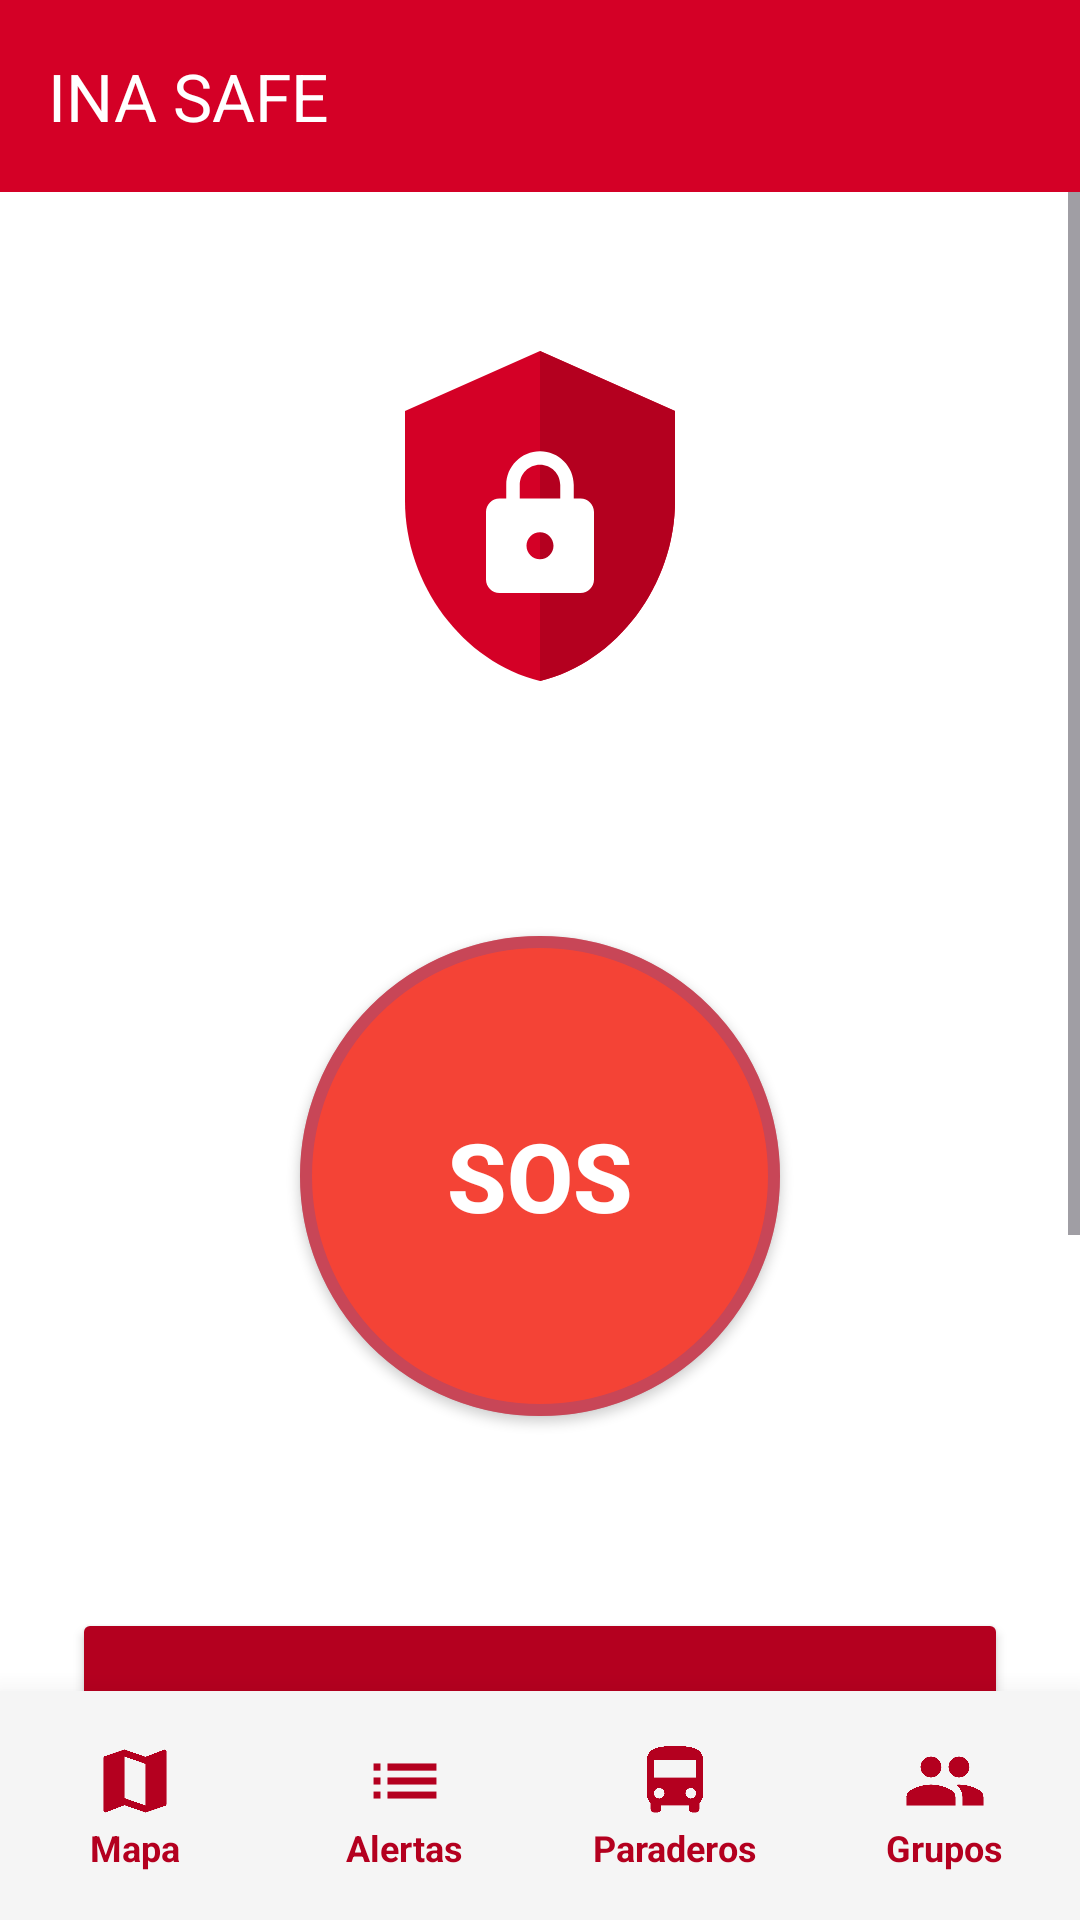

Where to tap for icons on this 1080x1920 app screen, as [x,y]:
bus: [675,1779]
list: [405,1781]
shield: [540,516]
